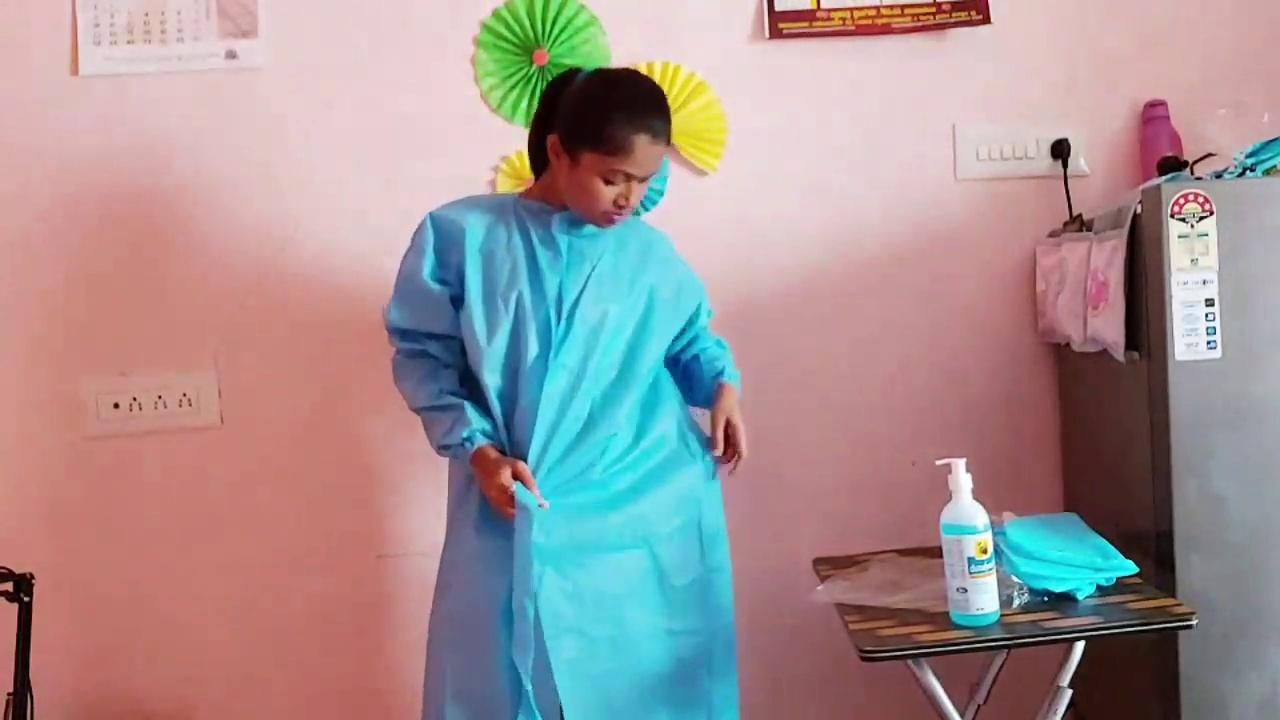Gloves Off: (470, 445, 548, 520), (710, 382, 748, 471)
Hairnet Off: (528, 68, 670, 179)
Suit On: (385, 195, 738, 718)
